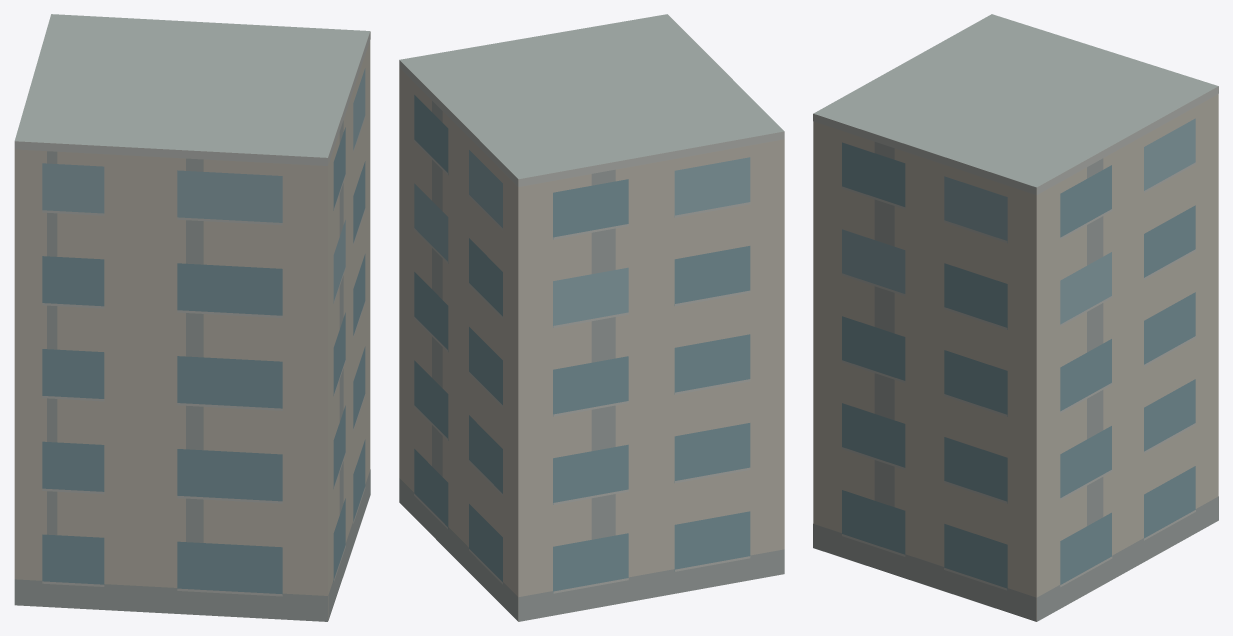
File: survey-upis-33034570.glb
3 renders of one model, left to right at view 1: azimuth 30°, elevation 25°; view 2: azimuth 150°, elevation 25°; view 3: azimuth 270°, elevation 25°, orthographic. The views are drawn at different scales.
Parts seen in each view (by area): view 1: survey-upis-33034570.tmp; view 2: survey-upis-33034570.tmp; view 3: survey-upis-33034570.tmp.
Part boxes in pixels (bbox=[...]): survey-upis-33034570.tmp: bbox=[14, 14, 370, 621]; survey-upis-33034570.tmp: bbox=[399, 14, 784, 621]; survey-upis-33034570.tmp: bbox=[813, 14, 1218, 621].
Bounding box in the file's own units: 11.83 × 13.8 × 11.68.
